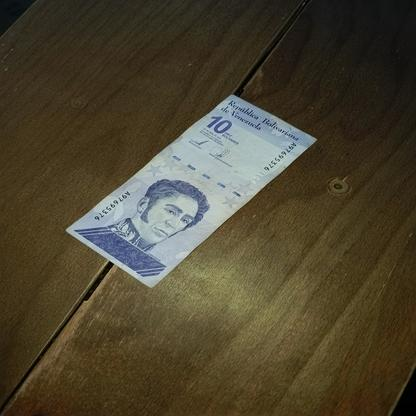ten-front-vef: (64, 92, 315, 288)
